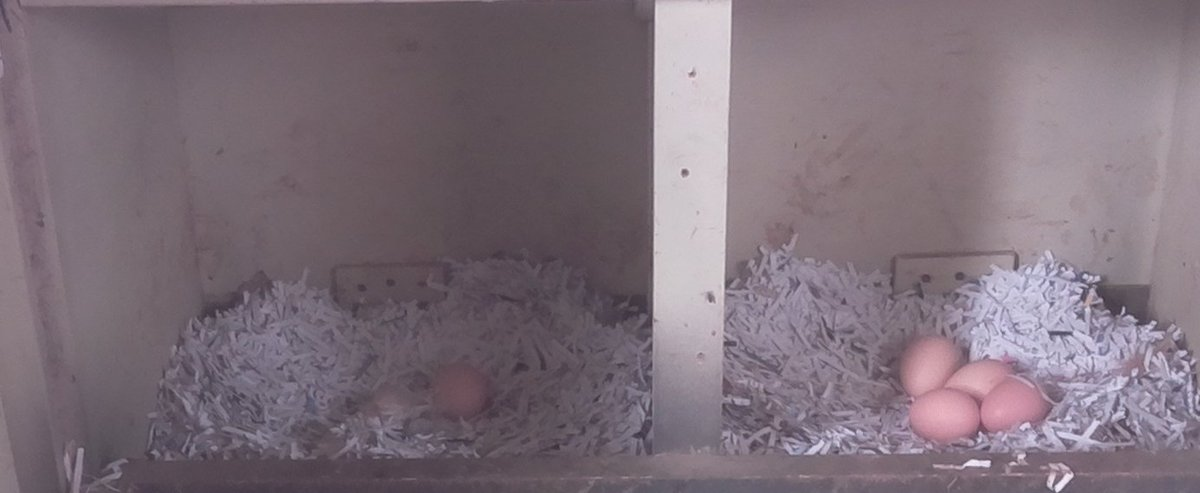egg: (974, 375, 1056, 437), (903, 388, 986, 449), (898, 329, 963, 398), (424, 359, 491, 425), (940, 358, 1021, 397)
